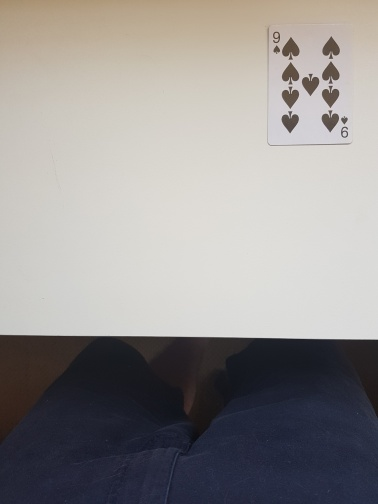nine: (266, 20, 355, 148)
